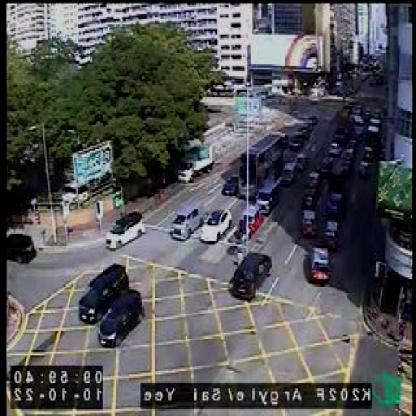Bus: (237, 135, 281, 198)
Car: (74, 267, 130, 326), (95, 288, 145, 348), (229, 249, 273, 299), (104, 209, 146, 251), (168, 202, 202, 242), (198, 206, 233, 244), (303, 242, 330, 284), (7, 233, 36, 263), (241, 202, 261, 232), (323, 219, 340, 250), (327, 190, 344, 214), (221, 175, 237, 195), (340, 157, 352, 178), (307, 171, 319, 188), (357, 160, 368, 178), (330, 140, 341, 154), (322, 158, 332, 172)
Truck: (176, 142, 214, 183), (256, 180, 278, 213), (282, 160, 295, 184)
